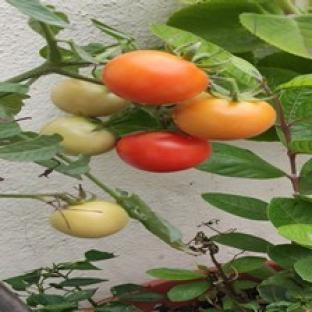Tomato: (102, 51, 208, 104), (173, 95, 275, 140), (116, 131, 211, 172), (51, 78, 129, 116), (49, 201, 129, 238), (41, 116, 115, 155)
